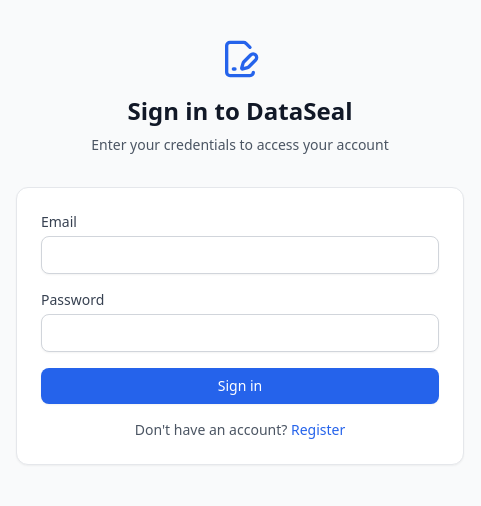
it: Login flow (integration) › should show validation errors for empty submit
The image size is (481, 506).
What coordinates should you click on to do the following:
click the button "Sign in"
I would click on:
 (240, 386)
Its box is left=41, top=368, right=439, bottom=404.
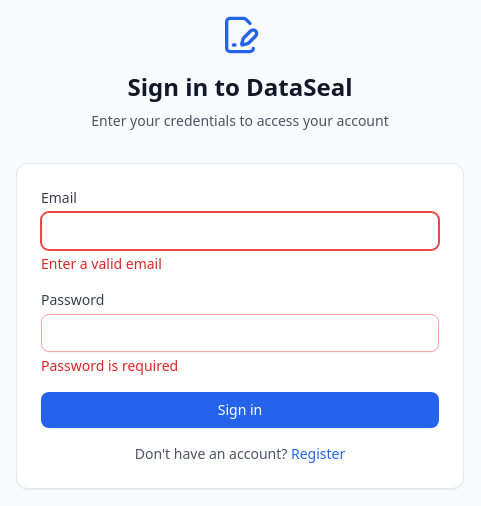
Expected: the text "Enter a valid email" is shown, left=41, top=254, right=162, bottom=273
